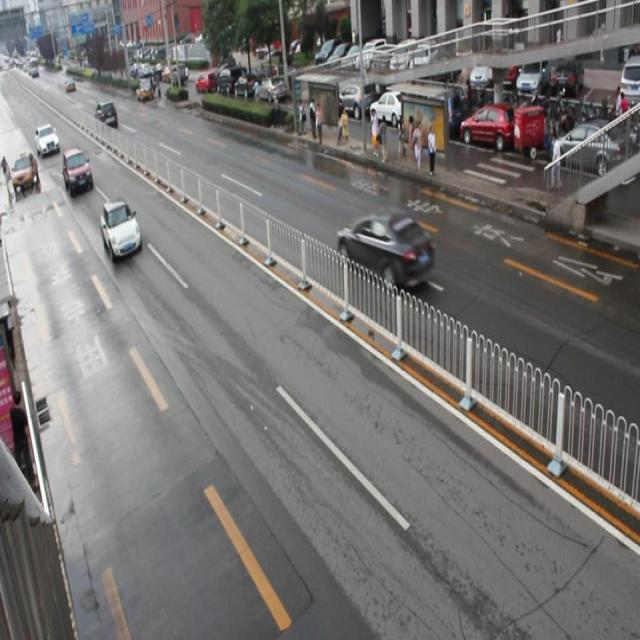car: (334, 209, 433, 290), (100, 198, 142, 261), (61, 148, 93, 194)
